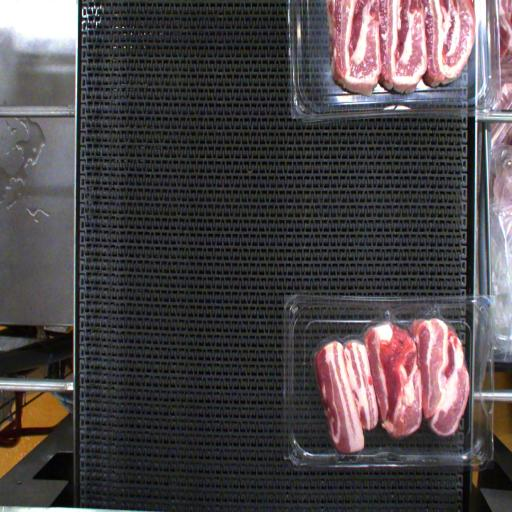unsealed: (302, 304, 470, 362)
